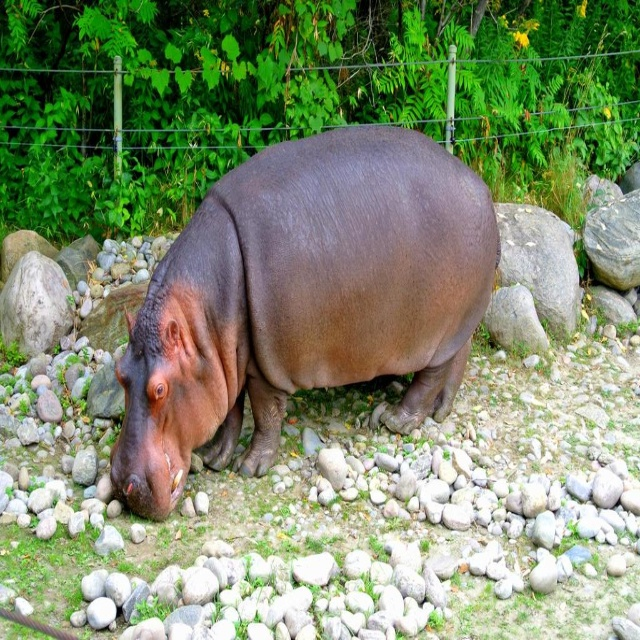Hippopotamus: (110, 126, 502, 521)
